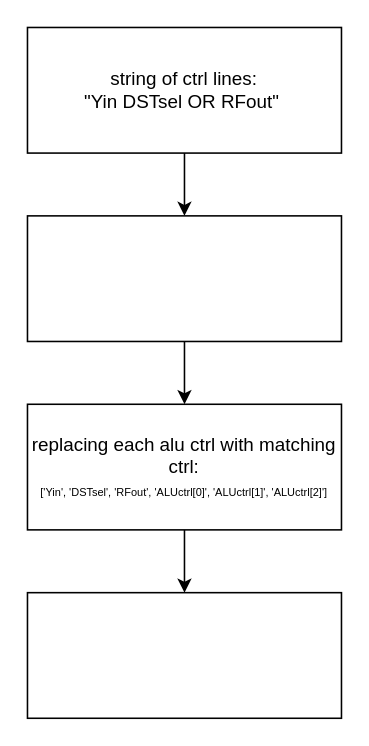
Image size: 369x746. Some labels were removed from this diagram. Each missing label, with the centre of its shape:
an array of those lines: ["Yin", "DSTsel", "OR", RFout": the point at 183,277
find the matching code for each eeprom [48, 0, 58, 0]: the point at 183,654
